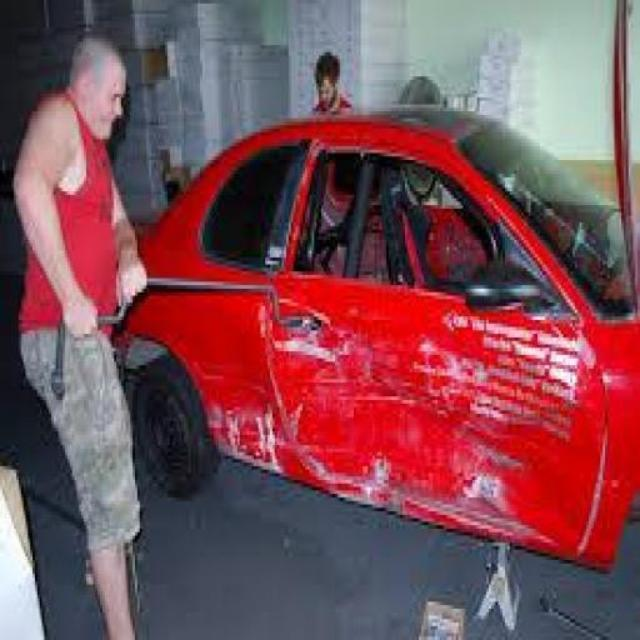dent: (206, 271, 609, 542)
